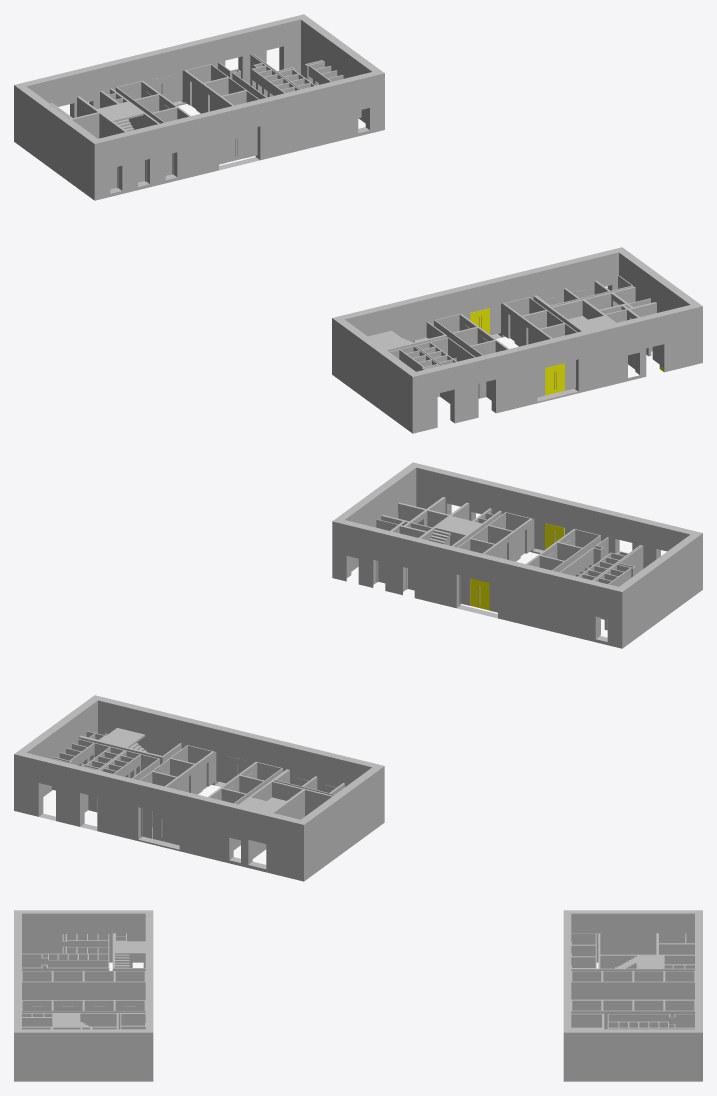
File: sm_hana_building_ph1f_in.glb
3 views of the same model, one above another, from view 1: azimuth 30°, elevation 25°; view 2: azimuth 150°, elevation 25°; view 3: azimuth 270°, elevation 25° (orthographic). The views are drawn at different scales.
Visible parts, largest first — view 1: sm_hana_building_ph1f_in; view 2: sm_hana_building_ph1f_in; view 3: sm_hana_building_ph1f_in.
Part boxes in pixels (x1,y1,x2,y2): sm_hana_building_ph1f_in: (14,14,702,433); sm_hana_building_ph1f_in: (14,462,702,881); sm_hana_building_ph1f_in: (14,910,702,1081).
Size of the model in its own units: 29.49 by 5.5 by 70.2.
2 materials, 1 textured.
